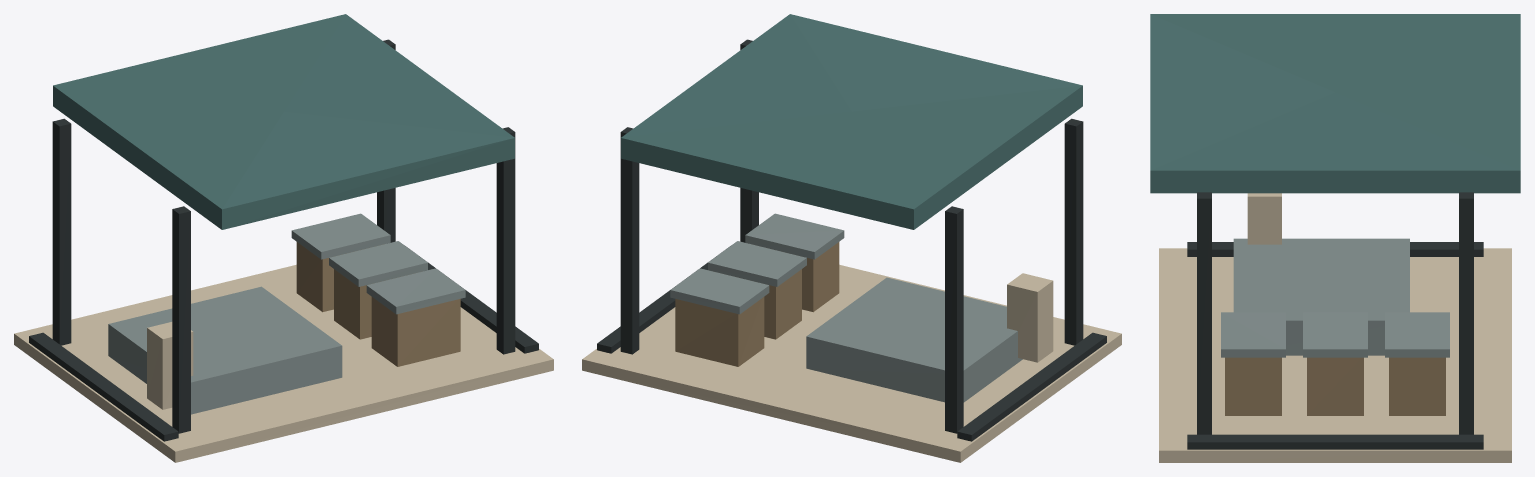
The model's file is produce-collection-point.source.glb.
3 views of the same model, side by side, from view 1: azimuth 30°, elevation 25°; view 2: azimuth 150°, elevation 25°; view 3: azimuth 270°, elevation 25° (orthographic). The views are drawn at different scales.
Visible parts, largest first — view 1: produce-collection-point-wide-sloped-canopy-mesh, produce-collection-point-concrete-roadside-slab-mesh, produce-collection-point-raised-scale-platform-mesh, produce-collection-point-sorting-bin-0.72-mesh, produce-collection-point-shelter-post--1.8--1.15-mesh, produce-collection-point-shelter-post--1.8-1.15-mesh, produce-collection-point-shelter-post-1.8-1.15-mesh, produce-collection-point-lane-curb-left-mesh, produce-collection-point-bin-rim--0.72-mesh, produce-collection-point-bin-rim-0.72-mesh, produce-collection-point-bin-rim-0-mesh, produce-collection-point-weighing-console-mesh (+4 smaller); view 2: produce-collection-point-wide-sloped-canopy-mesh, produce-collection-point-concrete-roadside-slab-mesh, produce-collection-point-raised-scale-platform-mesh, produce-collection-point-sorting-bin--0.72-mesh, produce-collection-point-shelter-post--1.8-1.15-mesh, produce-collection-point-shelter-post--1.8--1.15-mesh, produce-collection-point-shelter-post-1.8--1.15-mesh, produce-collection-point-weighing-console-mesh, produce-collection-point-lane-curb-left-mesh, produce-collection-point-bin-rim--0.72-mesh, produce-collection-point-bin-rim-0.72-mesh, produce-collection-point-bin-rim-0-mesh (+4 smaller); view 3: produce-collection-point-wide-sloped-canopy-mesh, produce-collection-point-concrete-roadside-slab-mesh, produce-collection-point-raised-scale-platform-mesh, produce-collection-point-lane-curb-right-mesh, produce-collection-point-shelter-post-1.8--1.15-mesh, produce-collection-point-shelter-post-1.8-1.15-mesh, produce-collection-point-sorting-bin--0.72-mesh, produce-collection-point-sorting-bin-0-mesh, produce-collection-point-sorting-bin-0.72-mesh, produce-collection-point-bin-rim--0.72-mesh, produce-collection-point-bin-rim-0-mesh, produce-collection-point-bin-rim-0.72-mesh (+2 smaller).
Part boxes in pixels (x1=…): produce-collection-point-wide-sloped-canopy-mesh: x1=53, y1=14, x2=514, y2=229; produce-collection-point-concrete-roadside-slab-mesh: x1=14, y1=264, x2=553, y2=462; produce-collection-point-raised-scale-platform-mesh: x1=108, y1=286, x2=342, y2=414; produce-collection-point-sorting-bin-0.72-mesh: x1=371, y1=297, x2=460, y2=366; produce-collection-point-shelter-post--1.8--1.15-mesh: x1=52, y1=118, x2=71, y2=345; produce-collection-point-shelter-post--1.8-1.15-mesh: x1=172, y1=206, x2=190, y2=433; produce-collection-point-shelter-post-1.8-1.15-mesh: x1=496, y1=127, x2=515, y2=354; produce-collection-point-lane-curb-left-mesh: x1=29, y1=332, x2=178, y2=441; produce-collection-point-bin-rim--0.72-mesh: x1=291, y1=213, x2=390, y2=259; produce-collection-point-bin-rim-0.72-mesh: x1=366, y1=268, x2=465, y2=314; produce-collection-point-bin-rim-0-mesh: x1=329, y1=241, x2=427, y2=286; produce-collection-point-weighing-console-mesh: x1=147, y1=322, x2=193, y2=409; produce-collection-point-wide-sloped-canopy-mesh: x1=621, y1=14, x2=1082, y2=229; produce-collection-point-concrete-roadside-slab-mesh: x1=582, y1=264, x2=1121, y2=462; produce-collection-point-raised-scale-platform-mesh: x1=806, y1=277, x2=1022, y2=402; produce-collection-point-sorting-bin--0.72-mesh: x1=675, y1=297, x2=764, y2=366; produce-collection-point-shelter-post--1.8-1.15-mesh: x1=1064, y1=118, x2=1083, y2=345; produce-collection-point-shelter-post--1.8--1.15-mesh: x1=945, y1=206, x2=963, y2=433; produce-collection-point-shelter-post-1.8--1.15-mesh: x1=620, y1=127, x2=639, y2=354; produce-collection-point-weighing-console-mesh: x1=1007, y1=273, x2=1053, y2=362; produce-collection-point-lane-curb-left-mesh: x1=957, y1=332, x2=1106, y2=441; produce-collection-point-bin-rim--0.72-mesh: x1=670, y1=268, x2=769, y2=314; produce-collection-point-bin-rim-0.72-mesh: x1=745, y1=213, x2=844, y2=259; produce-collection-point-bin-rim-0-mesh: x1=708, y1=241, x2=806, y2=286; produce-collection-point-wide-sloped-canopy-mesh: x1=1150, y1=14, x2=1520, y2=193; produce-collection-point-concrete-roadside-slab-mesh: x1=1159, y1=248, x2=1511, y2=462; produce-collection-point-raised-scale-platform-mesh: x1=1233, y1=238, x2=1409, y2=355; produce-collection-point-lane-curb-right-mesh: x1=1187, y1=434, x2=1483, y2=449; produce-collection-point-shelter-post-1.8--1.15-mesh: x1=1459, y1=192, x2=1473, y2=434; produce-collection-point-shelter-post-1.8-1.15-mesh: x1=1197, y1=192, x2=1211, y2=434; produce-collection-point-sorting-bin--0.72-mesh: x1=1389, y1=357, x2=1445, y2=415; produce-collection-point-sorting-bin-0-mesh: x1=1307, y1=357, x2=1363, y2=415; produce-collection-point-sorting-bin-0.72-mesh: x1=1225, y1=357, x2=1281, y2=415; produce-collection-point-bin-rim--0.72-mesh: x1=1385, y1=312, x2=1449, y2=357; produce-collection-point-bin-rim-0-mesh: x1=1303, y1=312, x2=1367, y2=357; produce-collection-point-bin-rim-0.72-mesh: x1=1221, y1=312, x2=1285, y2=357.
Size of the model in its own units: 4.2 by 2.61 by 3.25.
